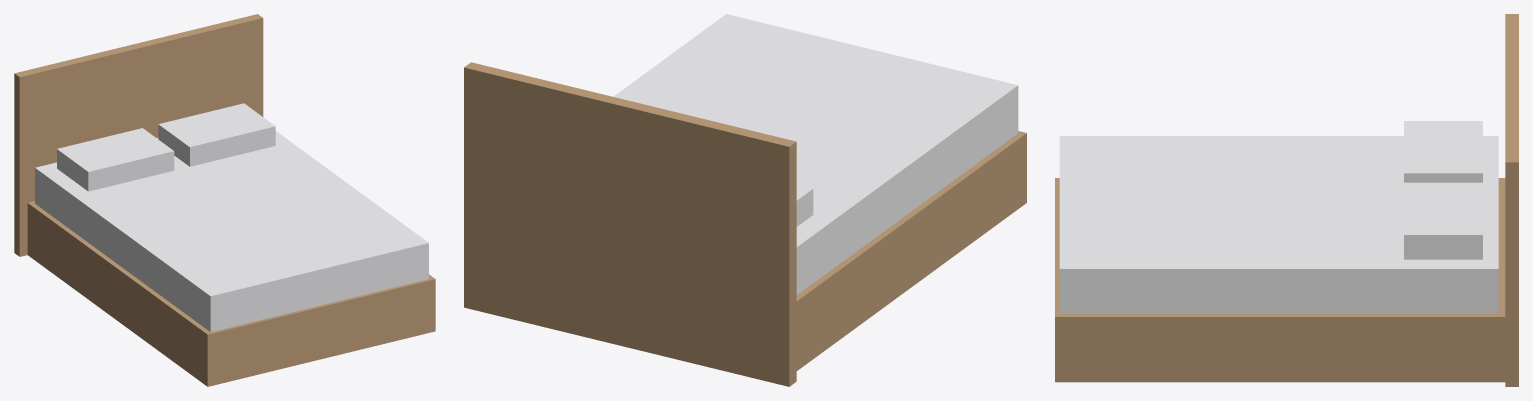
The model's file is cama.glb.
3 renders of one model, left to right at view 1: azimuth 30°, elevation 25°; view 2: azimuth 150°, elevation 25°; view 3: azimuth 270°, elevation 25°, orthographic. The views are drawn at different scales.
Visible parts, largest first — view 1: Mueble; view 2: Mueble; view 3: Mueble.
Part boxes in pixels (x1,y1,x2,y2): Mueble: (14,14,435,386); Mueble: (464,14,1026,386); Mueble: (1055,14,1518,386).
Bounding box in the file's own units: 1.56 × 1.1 × 2.06.
